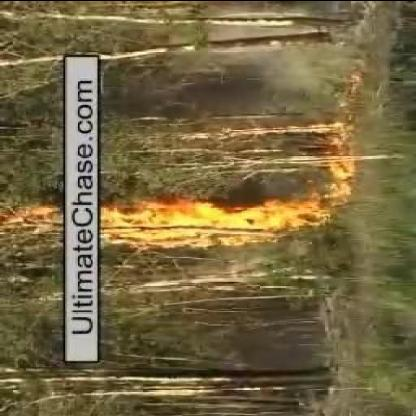-: (214, 78, 302, 110)
foggia-v2-map80-epoch100 - v1 4323: (101, 200, 286, 240)
